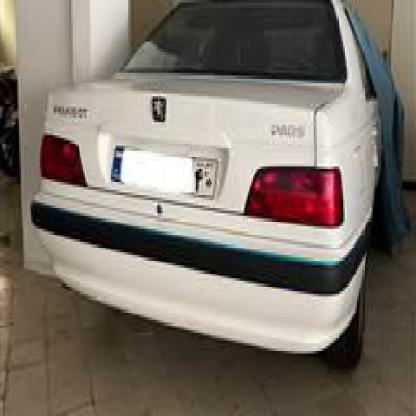car: (34, 0, 401, 375)
